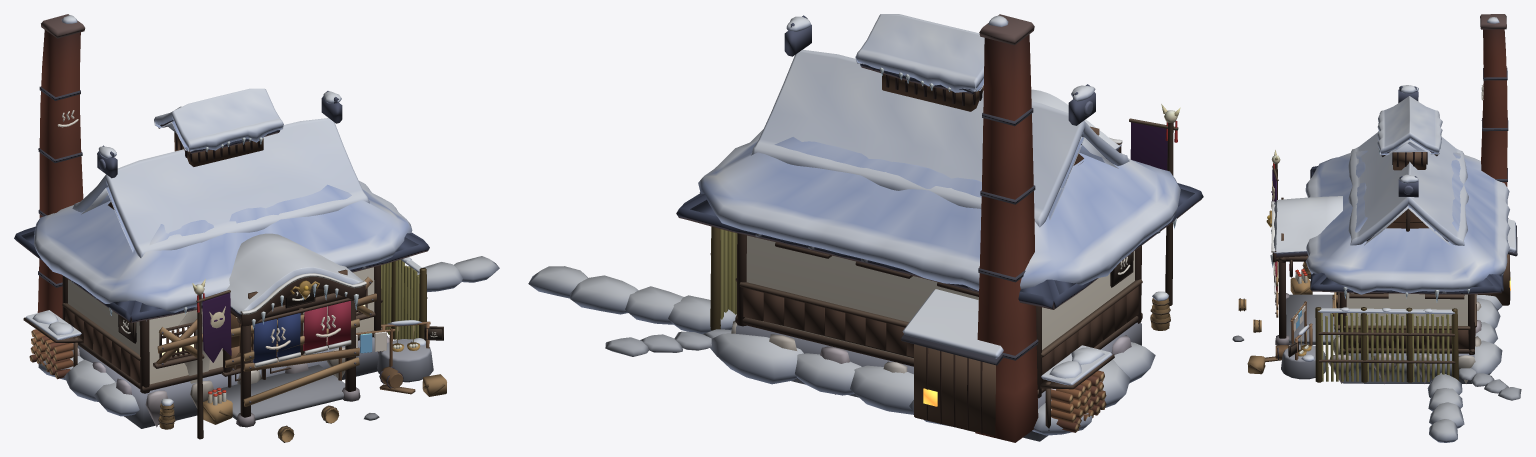
File: zv-onsen-bathhouse.glb
3 renders of one model, left to right at view 1: azimuth 30°, elevation 25°; view 2: azimuth 150°, elevation 25°; view 3: azimuth 270°, elevation 25°, orthographic. The views are drawn at different scales.
Visible parts, largest first — view 1: zv-onsen-bathhouse, siege, saved; view 2: zv-onsen-bathhouse, siege; view 3: zv-onsen-bathhouse, siege, saved.
Boxes of the visible parts, x1,y1,x2,y2 form: zv-onsen-bathhouse: [14, 14, 499, 429]; siege: [156, 277, 446, 442]; saved: [203, 298, 395, 424]; zv-onsen-bathhouse: [528, 14, 1203, 442]; siege: [1129, 104, 1180, 305]; zv-onsen-bathhouse: [1266, 14, 1521, 442]; siege: [1232, 150, 1337, 374]; saved: [1273, 260, 1312, 344].
Bounding box in the file's own units: 8.5 × 6.11 × 5.72.
